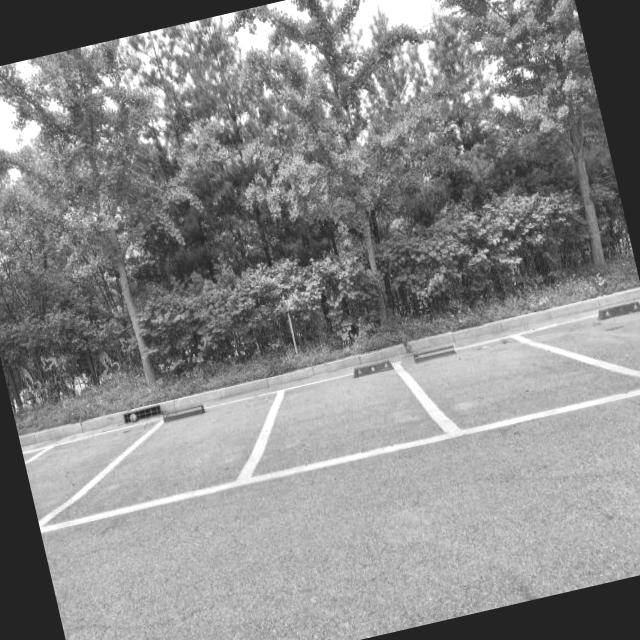free: (428, 303, 636, 446), (254, 357, 442, 482), (102, 392, 276, 516)
